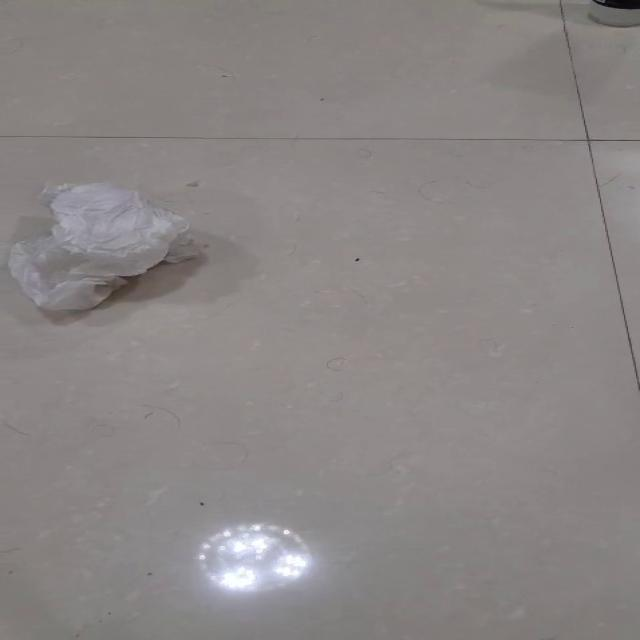plastic: (7, 180, 200, 311)
